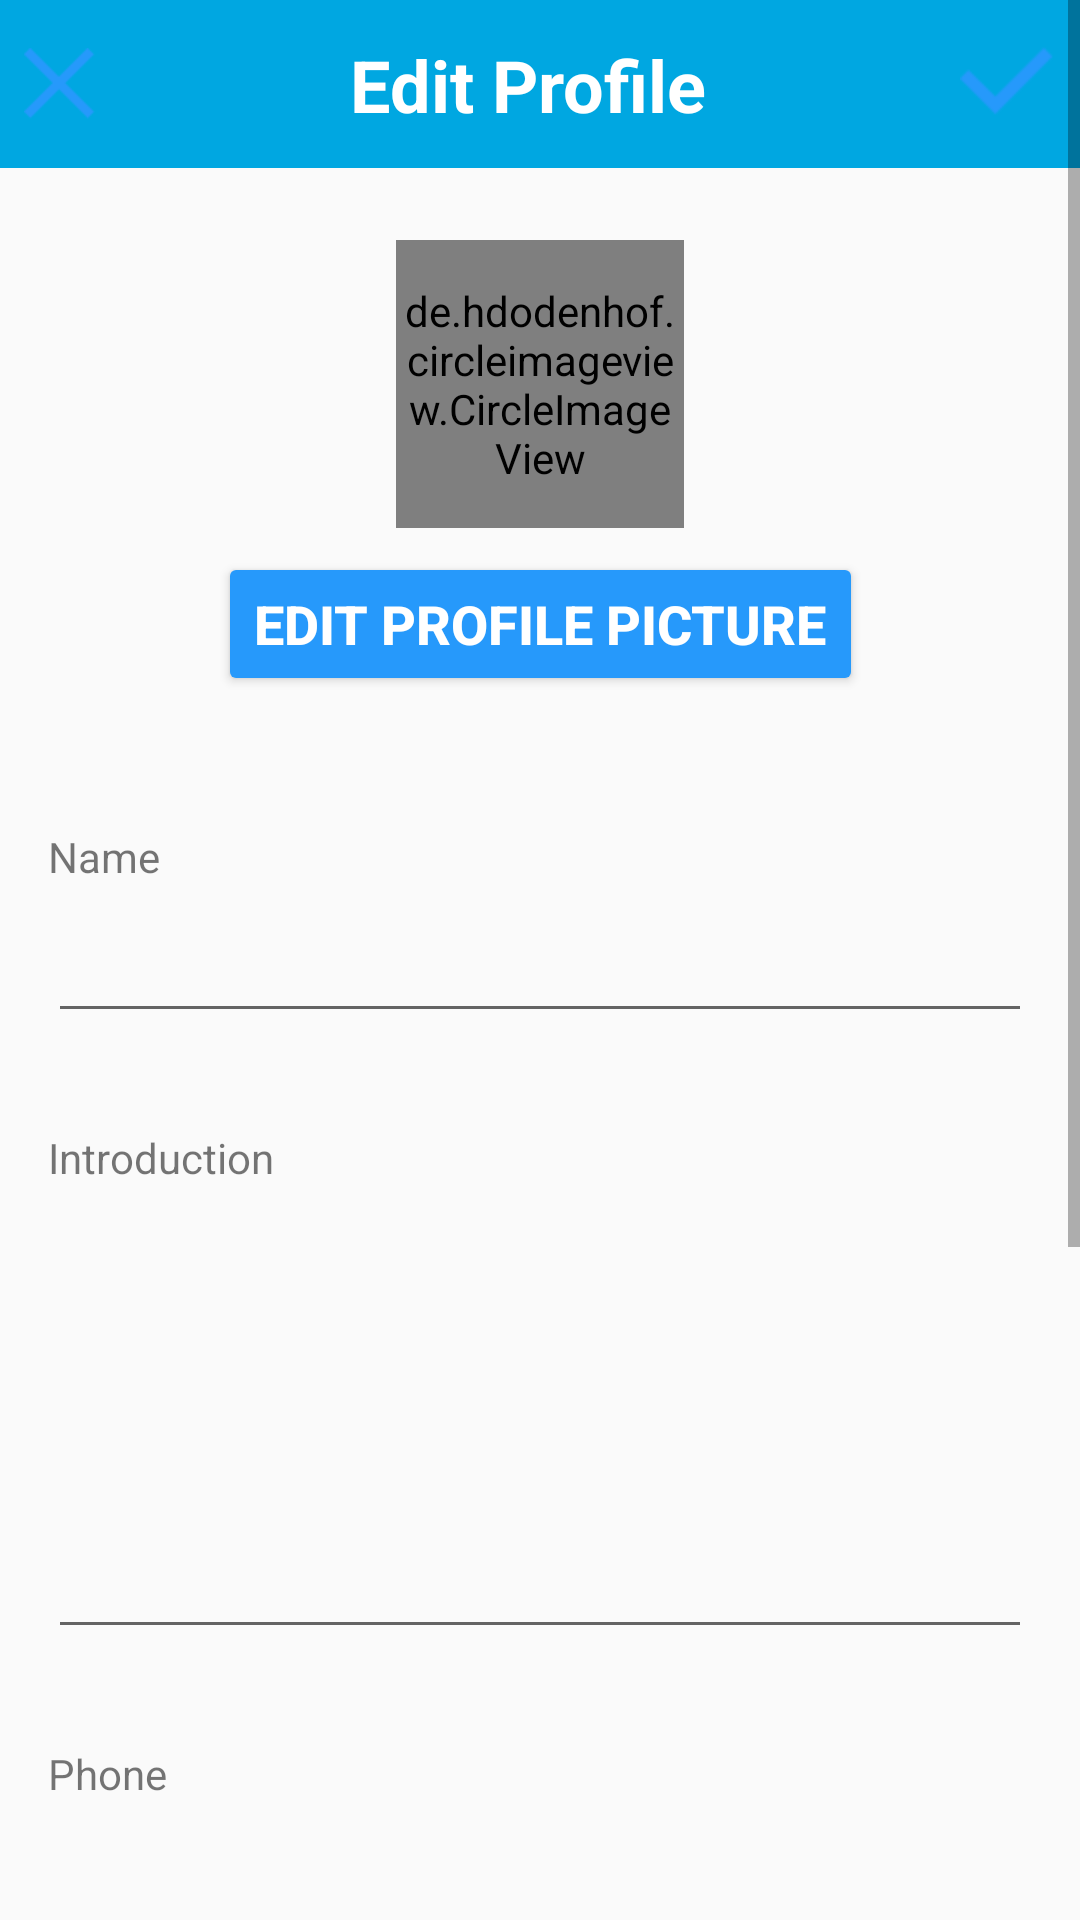

Screen size 1080x1920. Icon name, then its box in pixels as (x1, y1, x2, y2):
exit: (24, 48, 93, 117)
save: (961, 50, 1051, 113)
